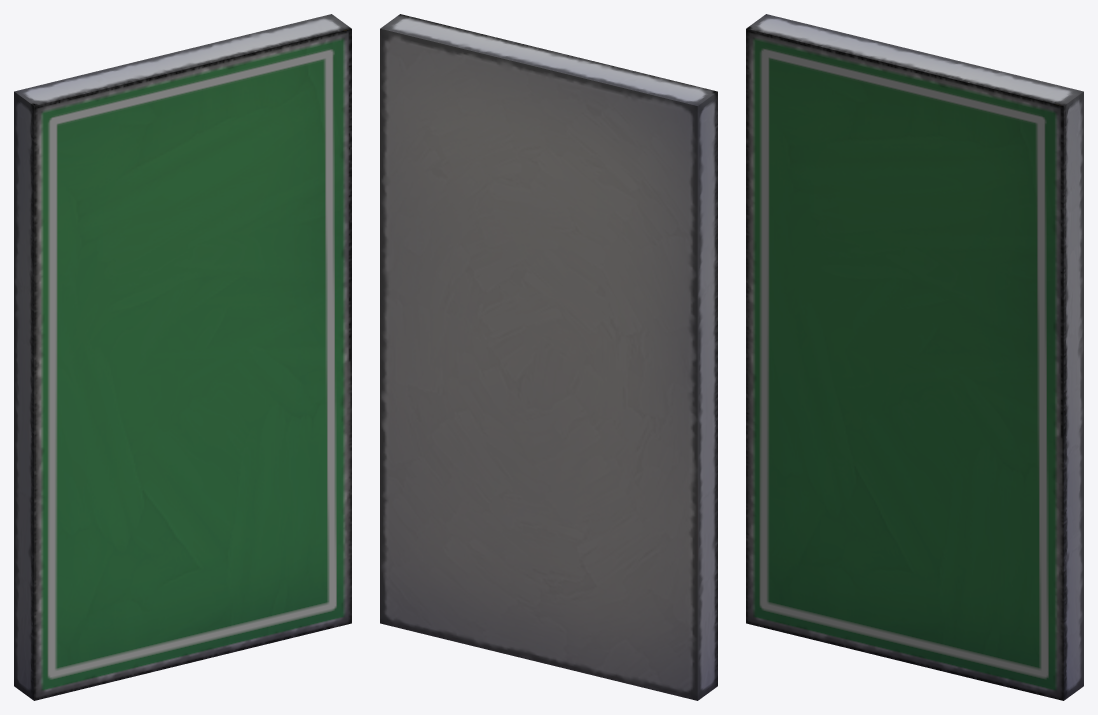
The model's file is Sign_01.fbx.
3 views of the same model, side by side, from view 1: azimuth 30°, elevation 25°; view 2: azimuth 150°, elevation 25°; view 3: azimuth 330°, elevation 25° (orthographic).
Visible parts, largest first — view 1: Sign_01; view 2: Sign_01; view 3: Sign_01.
Boxes of the visible parts, x1=… form: Sign_01: x1=14, y1=14, x2=351, y2=700; Sign_01: x1=380, y1=14, x2=717, y2=700; Sign_01: x1=746, y1=14, x2=1083, y2=700.
Bounding box in the file's own units: 0.6264 × 1.12 × 0.0685.
